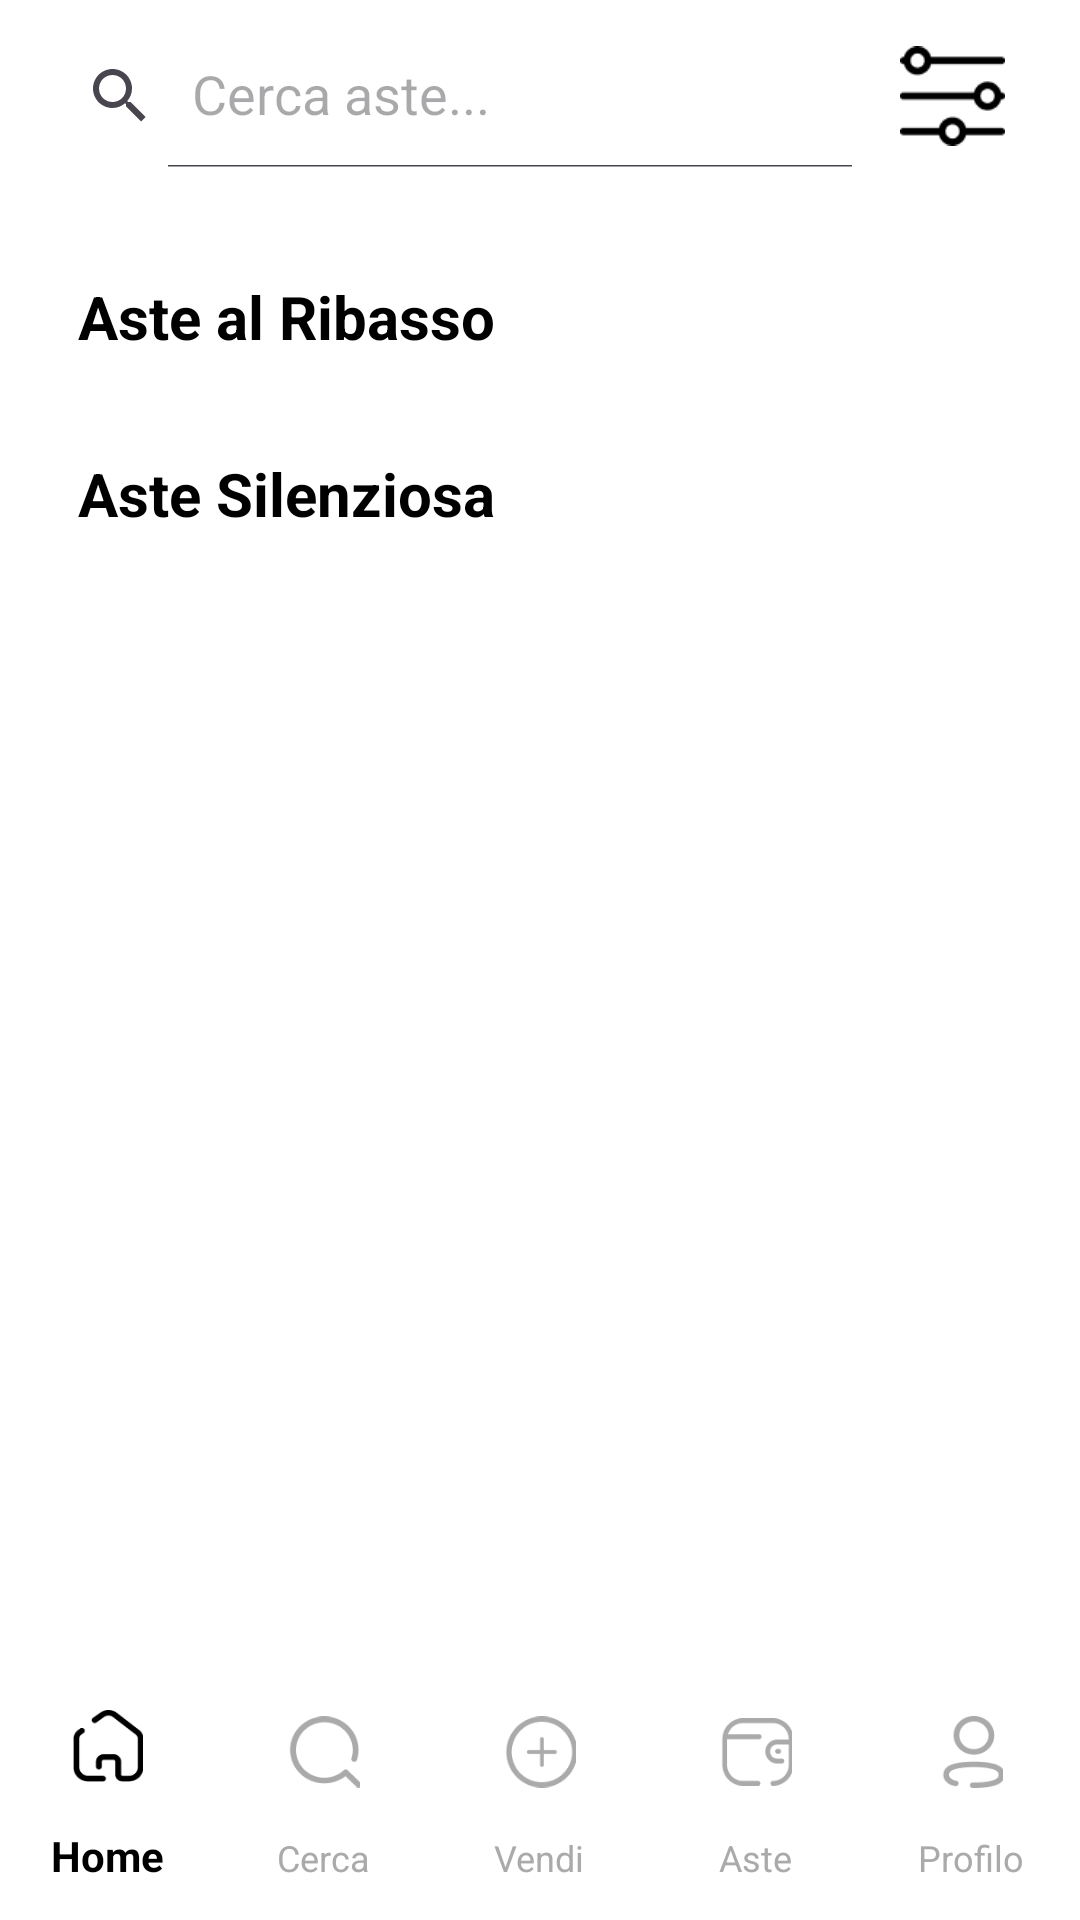

Point at icon controls on the screen. Image size 1080px x 1920px, points as (x,y).
filtri: (952,96)
